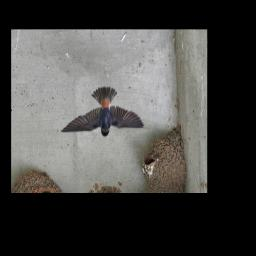Swallow: (58, 86, 145, 139)
